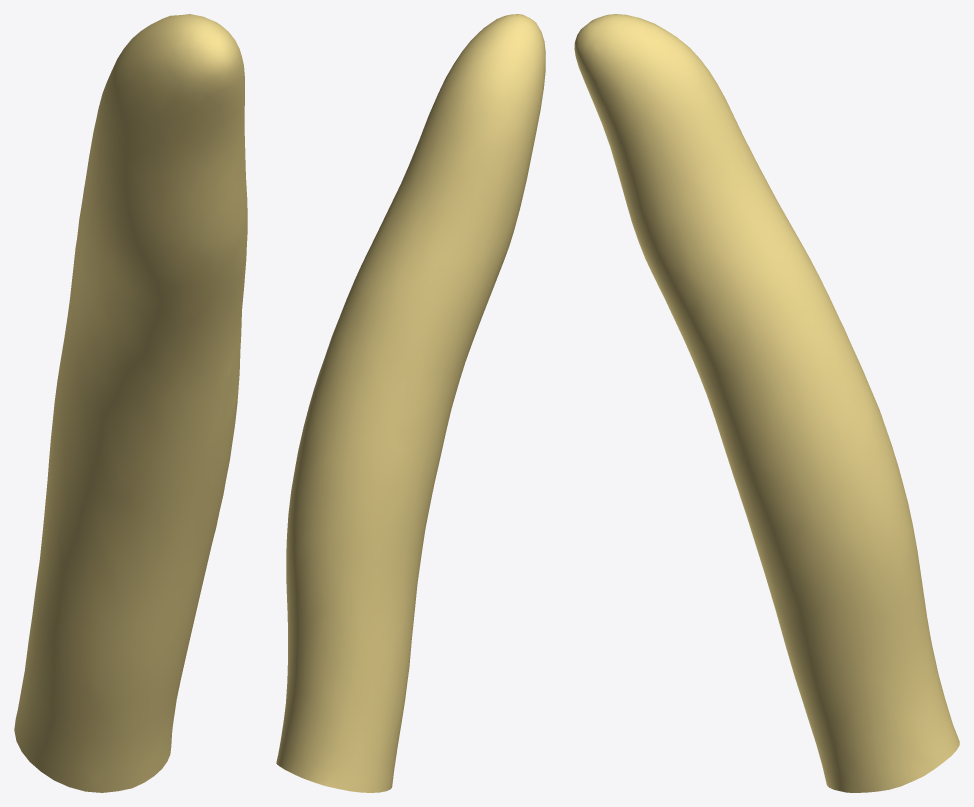
Rendered from fma235322-r_mm3535m.glb.
The picture shows the model from 3 angles, left to right: view 1: azimuth 30°, elevation 25°; view 2: azimuth 150°, elevation 25°; view 3: azimuth 270°, elevation 25°; orthographic projection. The views are drawn at different scales.
Visible parts, largest first — view 1: FMA235322-R_MM3535M; view 2: FMA235322-R_MM3535M; view 3: FMA235322-R_MM3535M.
Boxes of the visible parts, x1,y1,x2,y2 form: FMA235322-R_MM3535M: [14, 14, 247, 792]; FMA235322-R_MM3535M: [276, 14, 545, 792]; FMA235322-R_MM3535M: [574, 14, 959, 792].
Size of the model in its own units: 0.00233 by 0.0099 by 0.00466.
